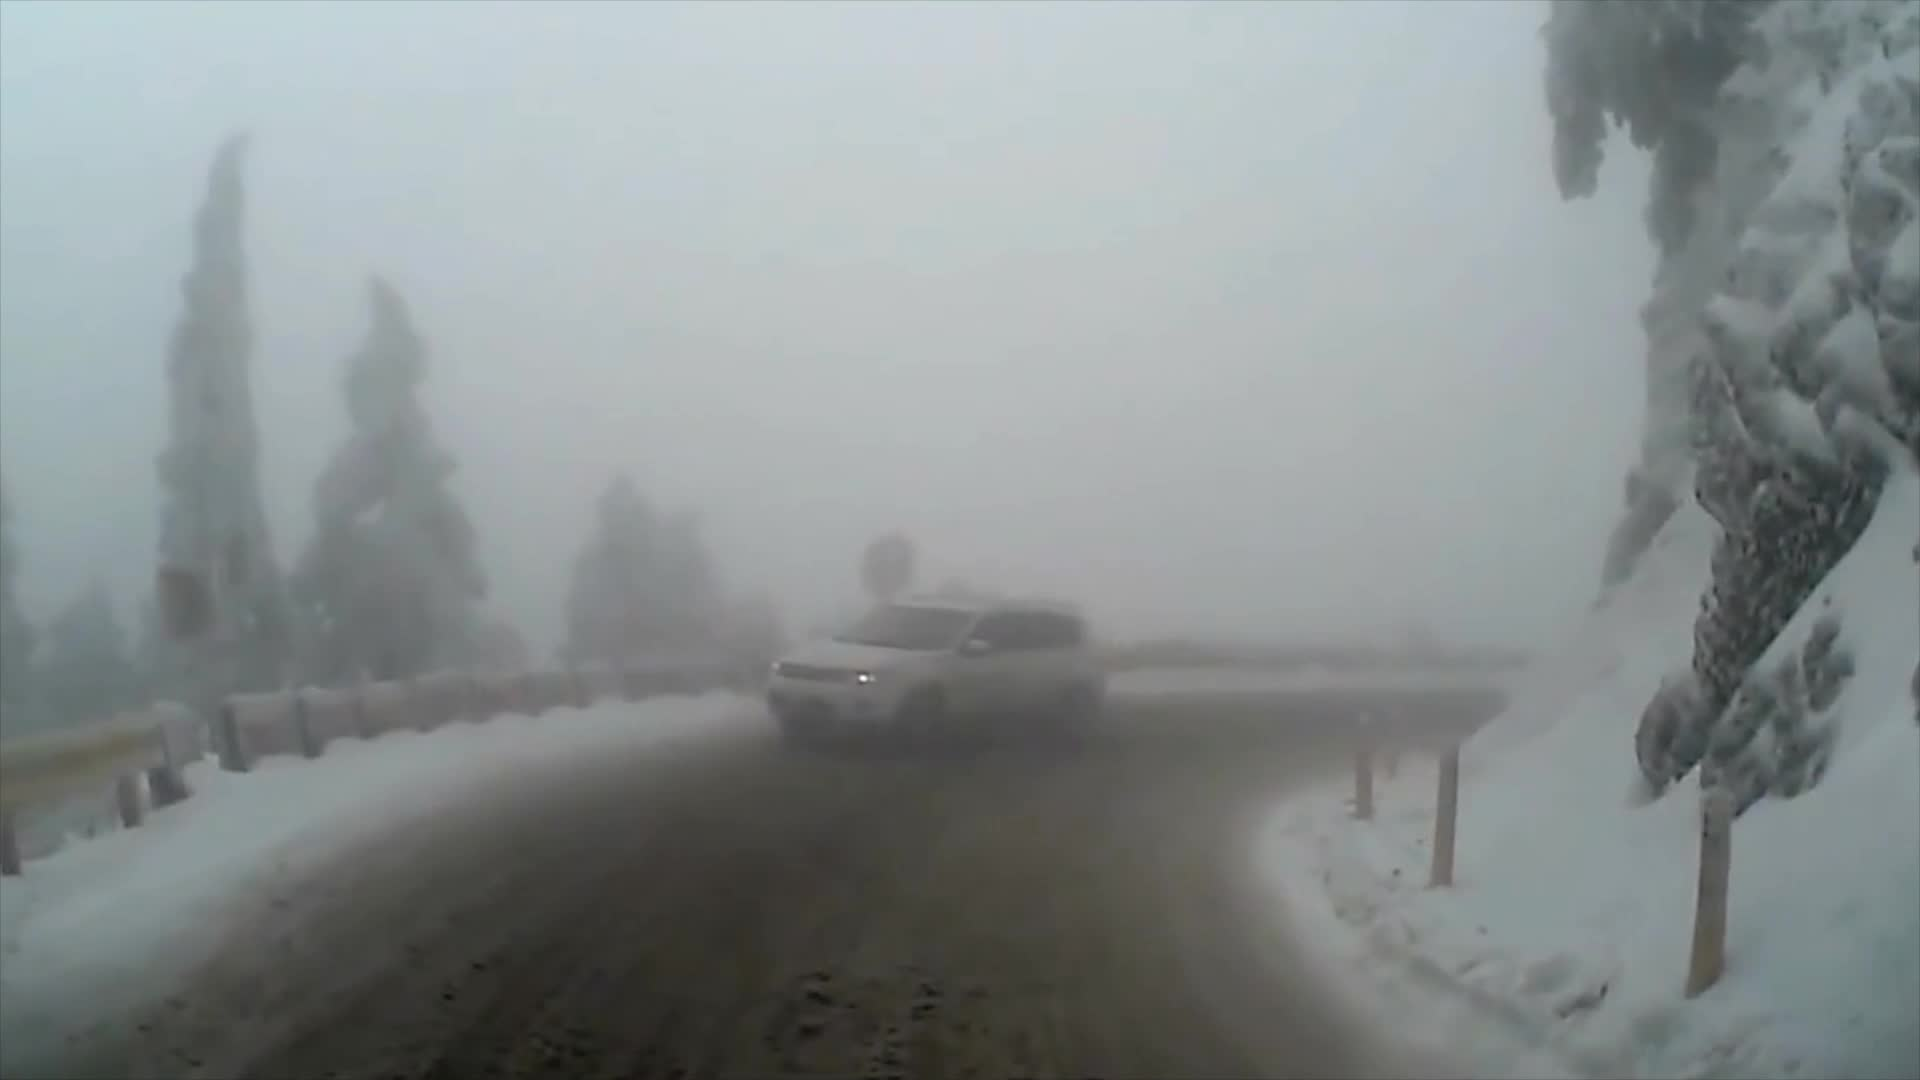vehicle: (762, 593, 1105, 765)
